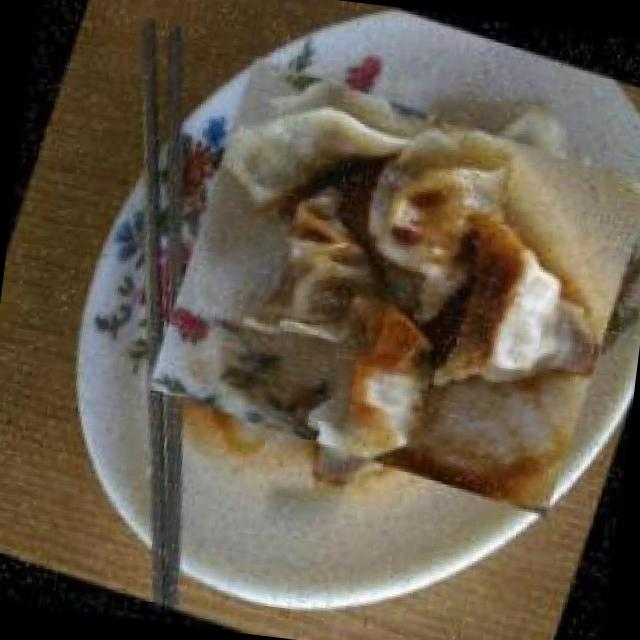fried_dumplings: (148, 33, 640, 538)
